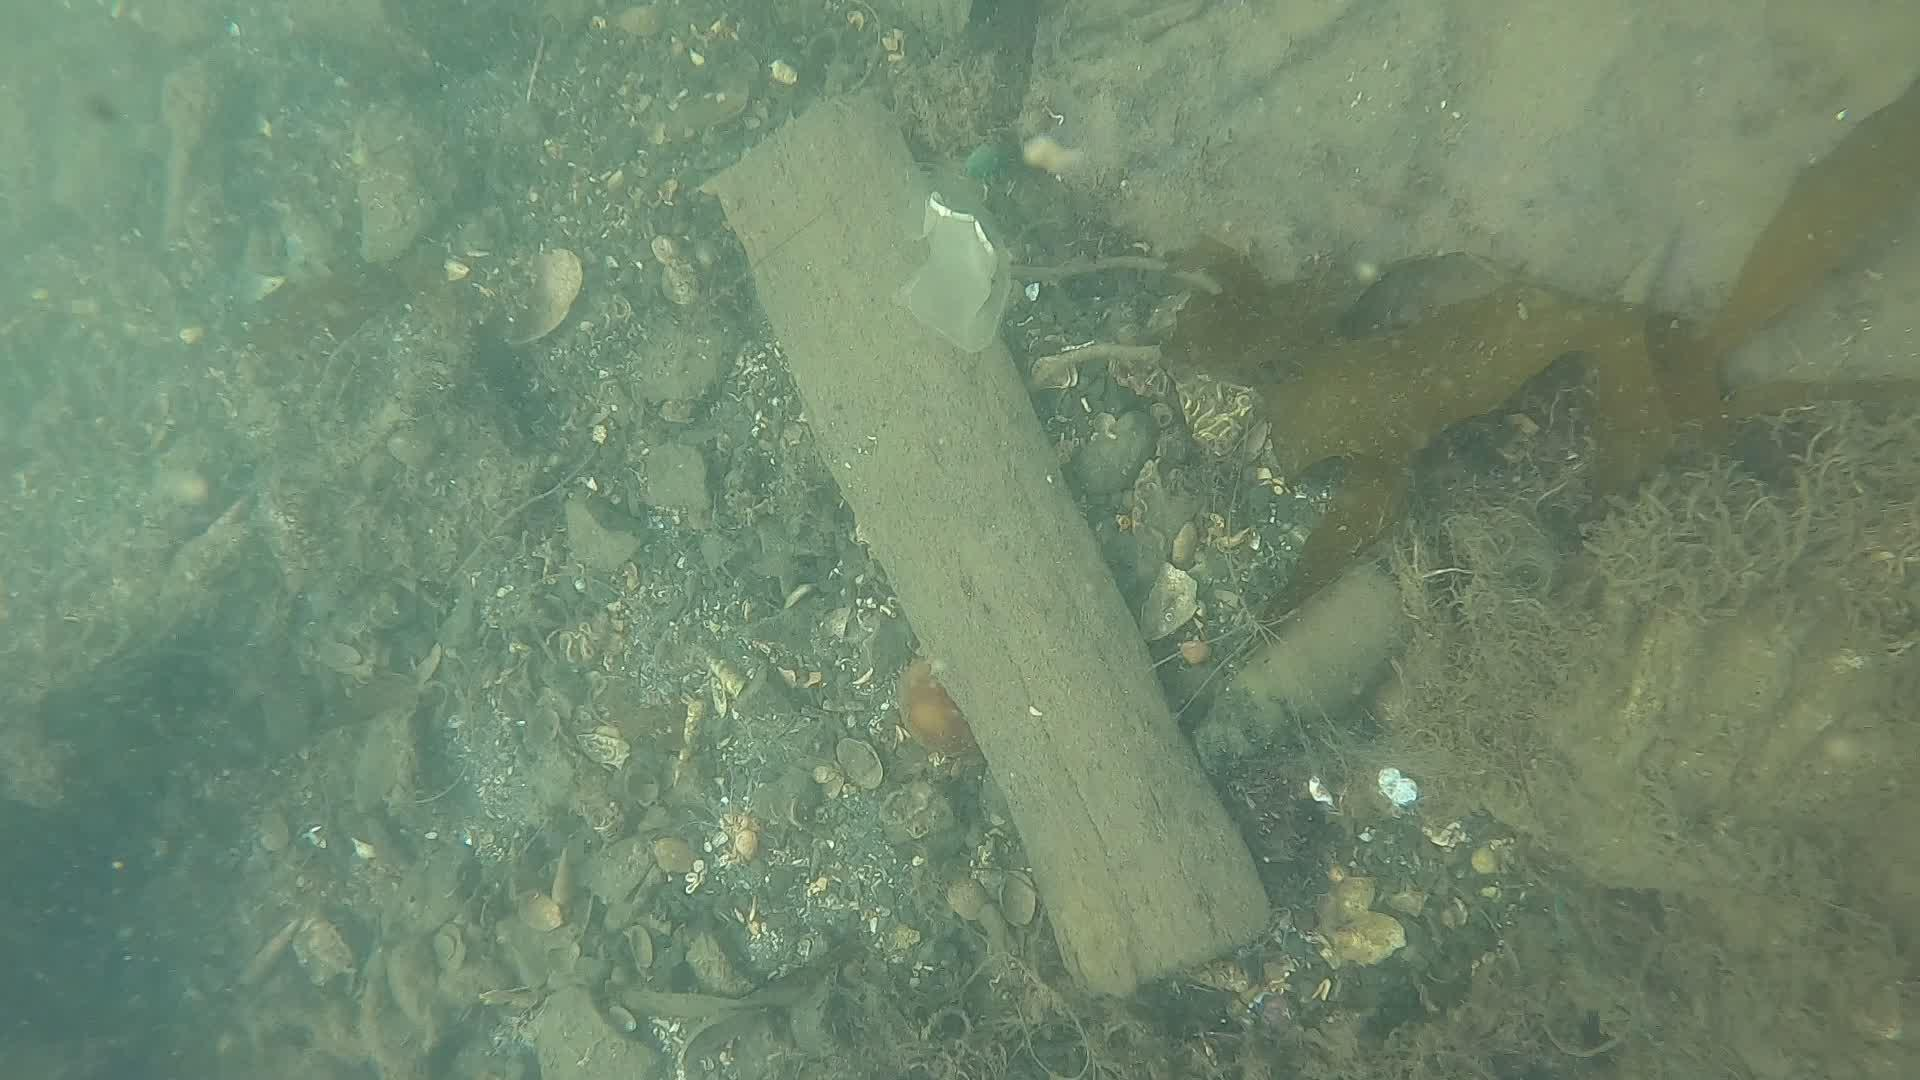wood: (694, 91, 1275, 1000)
